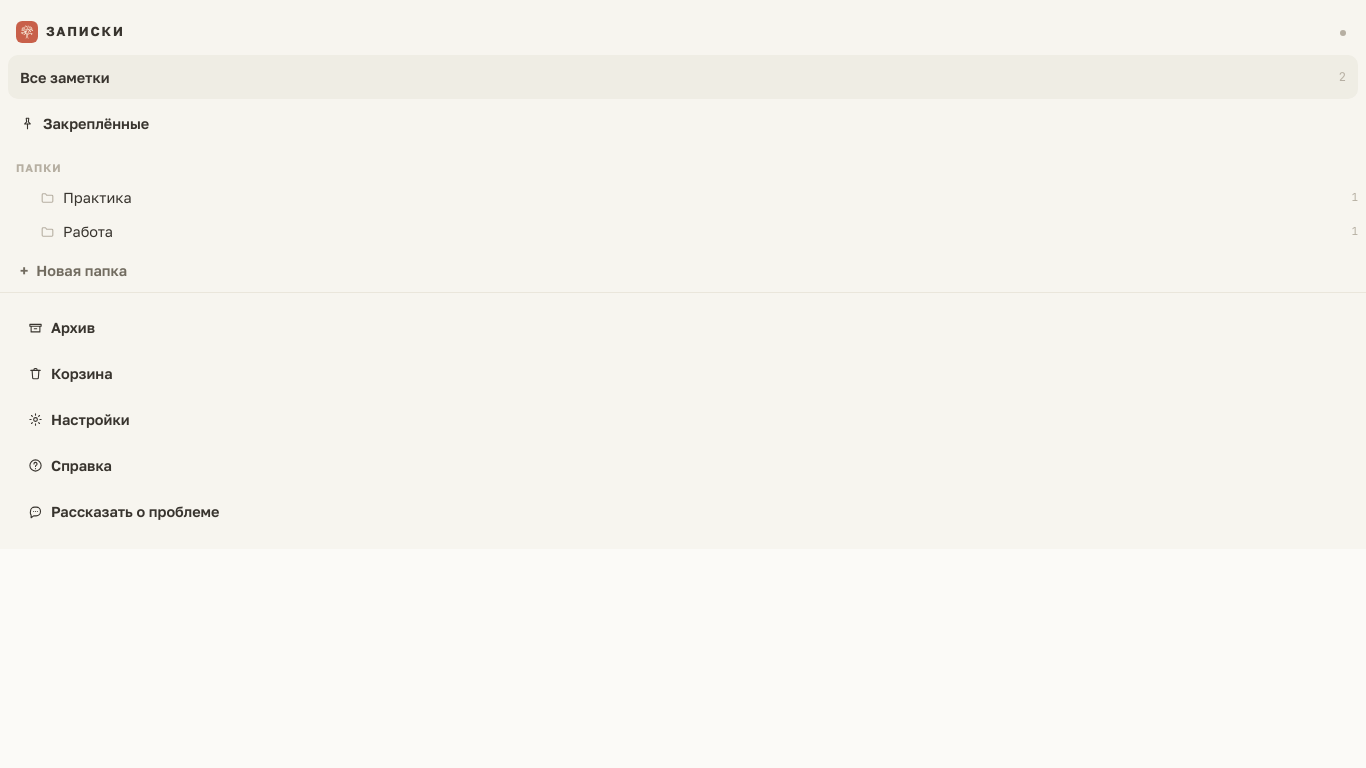
Test: меню папки открывается жестом из ТЗ › «Переместить» доводит до выбора получателя
Right-click the list item "Практика 1" at x=97, y=197, box [0,180,1365,214]
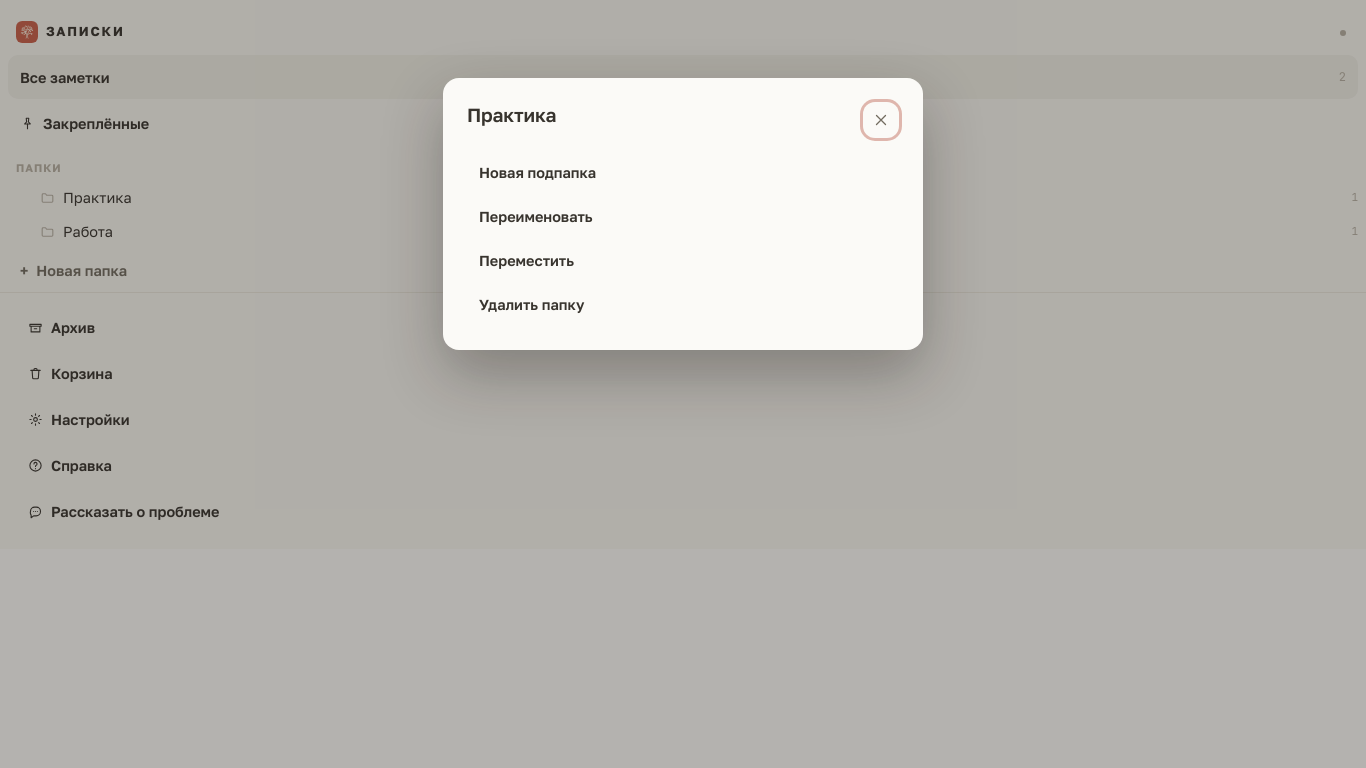
Click the menu item "Переместить" at x=527, y=260, box [467,238,899,282]
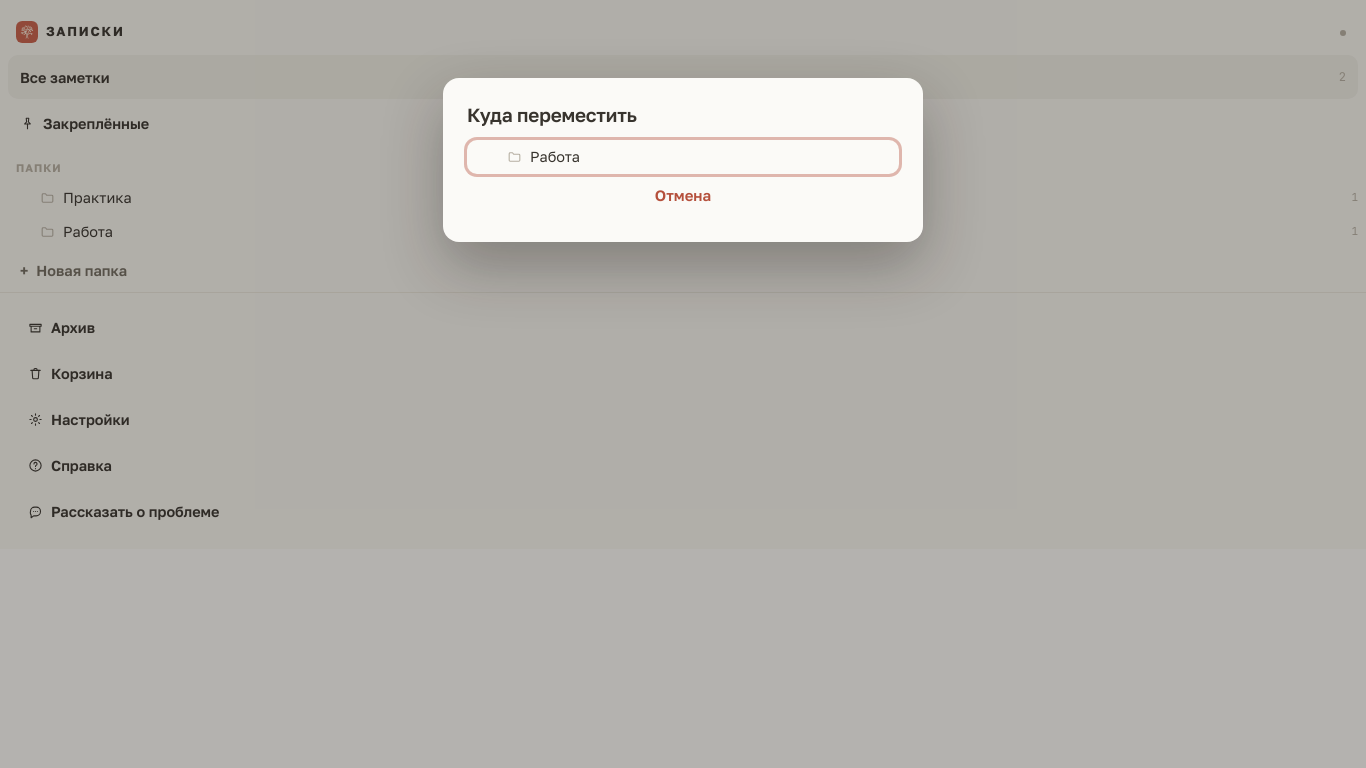
Expected: the list item "Работа" is shown, [467,140,899,174]
